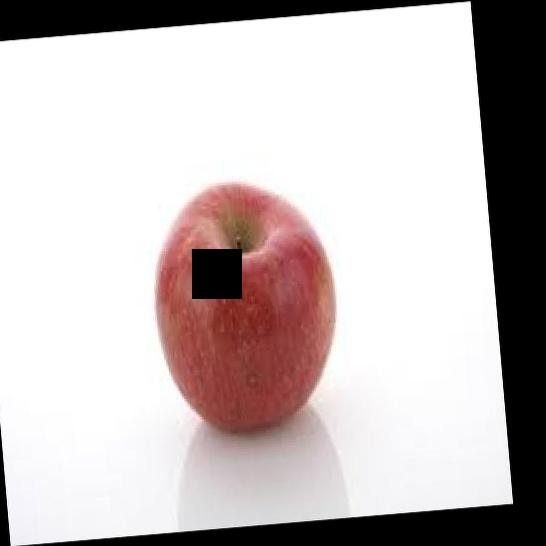red apple: (152, 180, 335, 436)
